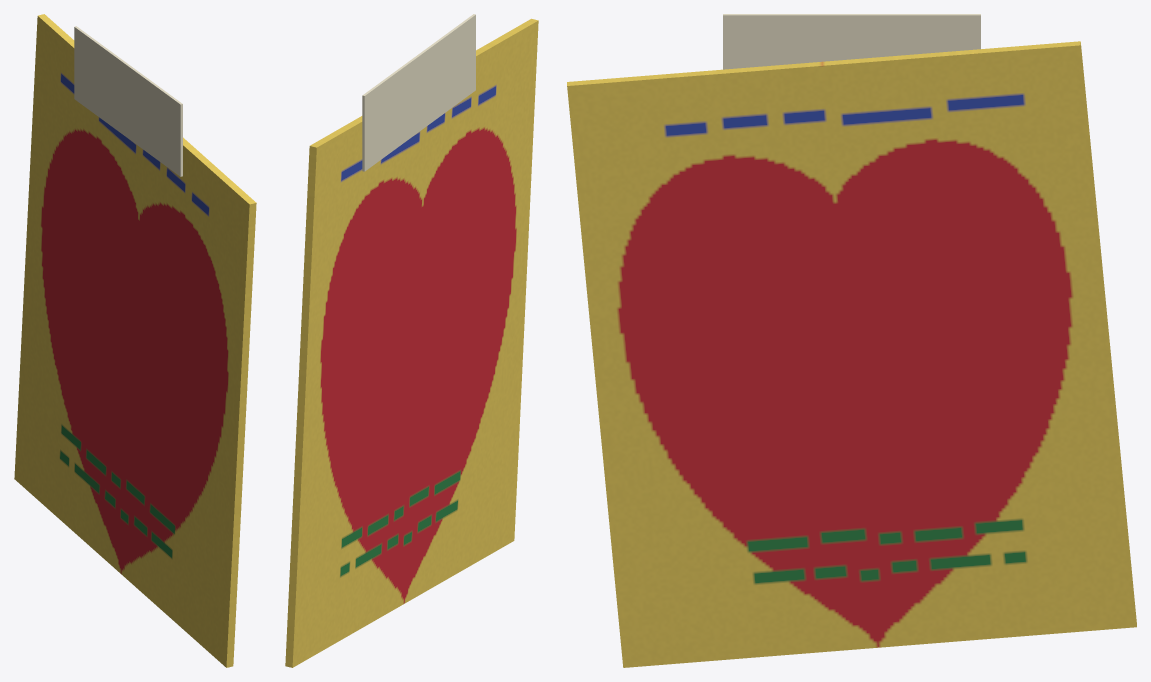
Rendered from escena.casa.tarjeta_refri.fbx.
The picture shows the model from 3 angles, left to right: view 1: azimuth 30°, elevation 25°; view 2: azimuth 150°, elevation 25°; view 3: azimuth 270°, elevation 25°; orthographic projection. The views are drawn at different scales.
Visible parts, largest first — view 1: Tarjeta para tu mamá, Cinta; view 2: Tarjeta para tu mamá, Cinta; view 3: Tarjeta para tu mamá, Cinta.
Part boxes in pixels (x1,y1,x2,y2): Tarjeta para tu mamá: [14, 14, 256, 667]; Cinta: [74, 26, 182, 176]; Tarjeta para tu mamá: [285, 18, 538, 667]; Cinta: [362, 14, 475, 171]; Tarjeta para tu mamá: [567, 41, 1136, 667]; Cinta: [723, 14, 980, 69].
Bounding box in the file's own units: 0.005 × 0.2216 × 0.1768.
Materials: 2 (1 with a texture image).
